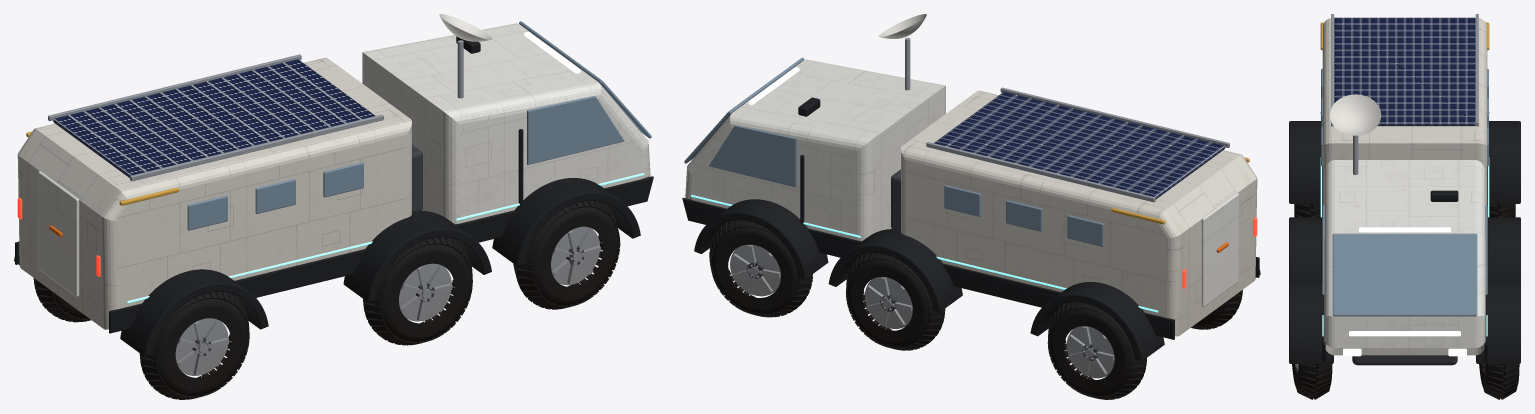
The model's file is mars_rover.glb.
The picture shows the model from 3 angles, left to right: view 1: azimuth 30°, elevation 25°; view 2: azimuth 150°, elevation 25°; view 3: azimuth 270°, elevation 25°; orthographic projection. The views are drawn at different scales.
Parts seen in each view (by area): view 1: lab_module, scout_pod, solar_array, fender (×3), tire (×3), tread (×4), side_glass, rear_hatch, rim_face (×3), lab_trim, lab_window (×3), array_rail (×2) (+5 smaller); view 2: lab_module, scout_pod, solar_array, fender (×3), tire (×3), tread (×4), side_glass, rim_face (×3), rear_hatch, lab_trim, lab_window (×3), array_rail (×2) (+5 smaller); view 3: scout_pod, fender (×6), solar_array, canopy, lab_module, tread (×4), hga_dish, chassis, array_rail (×2), headlight_bar, roof_lightbar, side_glass (×2) (+3 smaller).
Part boxes in pixels (bbox=[...]): lab_module: bbox=[17, 57, 411, 329]; scout_pod: bbox=[362, 23, 650, 224]; solar_array: bbox=[53, 59, 375, 177]; fender (×3): bbox=[120, 178, 640, 356]; tire (×3): bbox=[144, 203, 618, 396]; tread (×4): bbox=[33, 201, 620, 399]; side_glass: bbox=[527, 96, 624, 164]; rear_hatch: bbox=[38, 171, 79, 296]; rim_face (×3): bbox=[175, 226, 599, 375]; lab_trim: bbox=[109, 249, 365, 333]; lab_window (×3): bbox=[187, 162, 363, 230]; array_rail (×2): bbox=[48, 54, 383, 181]; lab_module: bbox=[901, 90, 1257, 336]; scout_pod: bbox=[685, 59, 945, 241]; solar_array: bbox=[934, 92, 1225, 199]; fender (×3): bbox=[694, 199, 1164, 360]; tire (×3): bbox=[712, 222, 1136, 396]; tread (×4): bbox=[709, 220, 1242, 399]; side_glass: bbox=[709, 125, 796, 187]; rim_face (×3): bbox=[730, 244, 1114, 378]; rear_hatch: bbox=[1201, 193, 1238, 306]; lab_trim: bbox=[942, 263, 1174, 339]; lab_window (×3): bbox=[944, 185, 1103, 246]; array_rail (×2): bbox=[926, 87, 1229, 202]; scout_pod: bbox=[1324, 160, 1485, 355]; fender (×6): bbox=[1289, 121, 1520, 363]; solar_array: bbox=[1334, 17, 1475, 126]; canopy: bbox=[1332, 233, 1477, 316]; lab_module: bbox=[1322, 18, 1487, 205]; tread (×4): bbox=[1294, 204, 1518, 399]; hga_dish: bbox=[1330, 94, 1381, 135]; chassis: bbox=[1352, 355, 1457, 365]; array_rail (×2): bbox=[1331, 14, 1478, 126]; headlight_bar: bbox=[1349, 331, 1460, 336]; roof_lightbar: bbox=[1359, 227, 1450, 232]; side_glass (×2): bbox=[1322, 205, 1487, 294].
Size of the model in its own units: 8.61 by 4.33 by 3.52.
14 materials, 3 textured.
